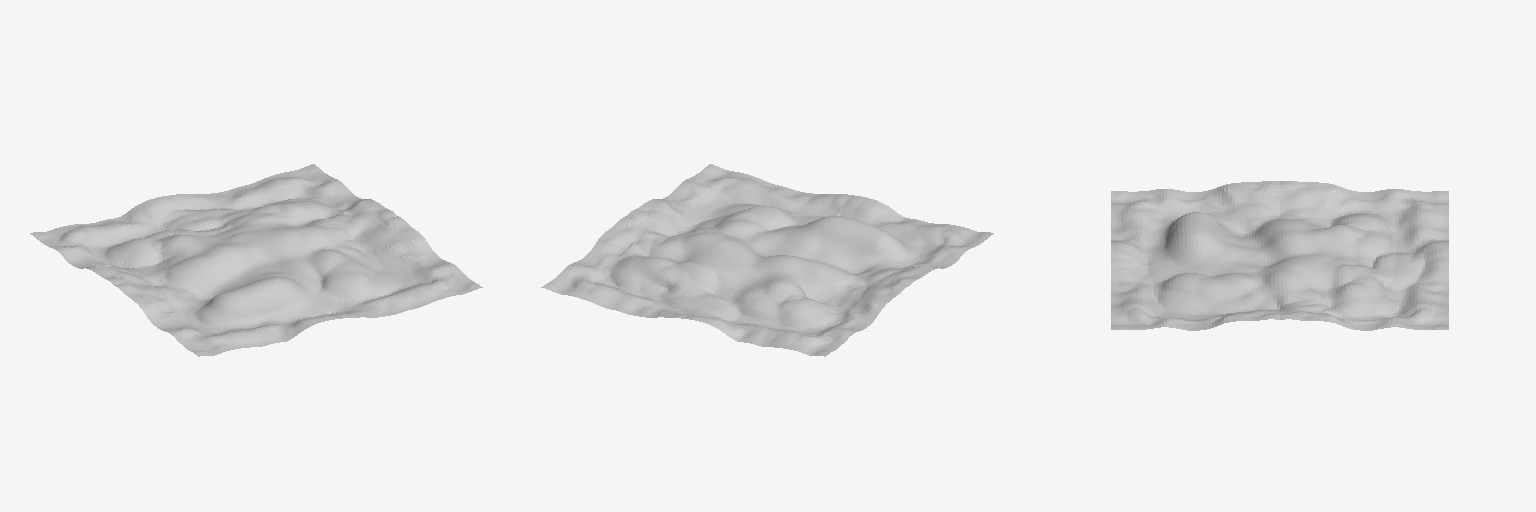
The model's file is ground_model.obj.
The picture shows the model from 3 angles: view 1: azimuth 30°, elevation 25°; view 2: azimuth 150°, elevation 25°; view 3: azimuth 270°, elevation 25°; orthographic projection.
Parts seen in each view (by area): view 1: pPlane20; view 2: pPlane20; view 3: pPlane20.
Boxes of the visible parts, x1,y1,x2,y2 form: pPlane20: [30, 164, 482, 356]; pPlane20: [541, 164, 993, 356]; pPlane20: [1111, 181, 1448, 330].
Size of the model in its own units: 51.2 by 4.44 by 52.72.